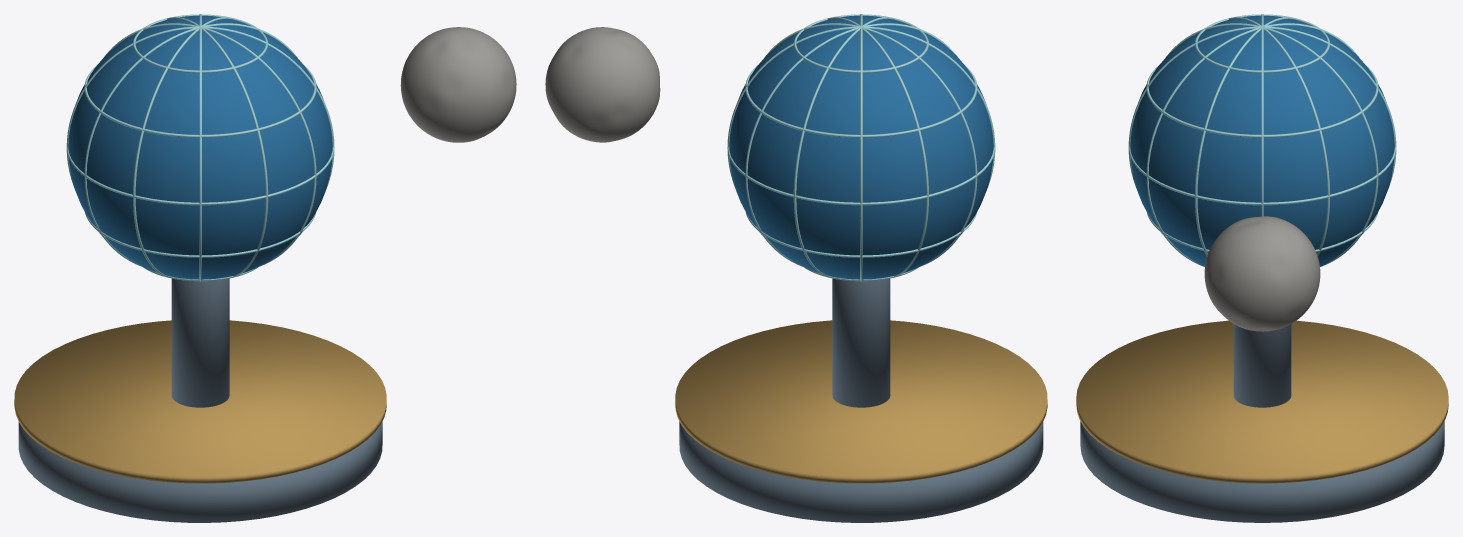
File: earthsky-moon-v1-ultra.glb
3 renders of one model, left to right at view 1: azimuth 30°, elevation 25°; view 2: azimuth 150°, elevation 25°; view 3: azimuth 270°, elevation 25°, orthographic.
Visible parts, largest first — view 1: earth-ocean, brass-trim, weighted-base, moon, pedestal, longitude.005, latitude.003, longitude, longitude.004, latitude.002, longitude.001, longitude.003 (+3 smaller); view 2: earth-ocean, brass-trim, weighted-base, moon, pedestal, longitude.001, latitude.003, longitude, longitude.002, latitude.002, longitude.005, longitude.003 (+3 smaller); view 3: earth-ocean, brass-trim, weighted-base, moon, pedestal, longitude.003, longitude.002, longitude.004, latitude.003, latitude.002, longitude.001, longitude.005 (+2 smaller).
Part boxes in pixels (<box>): earth-ocean: <box>68,15,332,279</box>; brass-trim: <box>14,320,386,483</box>; weighted-base: <box>18,421,382,522</box>; moon: <box>400,27,516,142</box>; pedestal: <box>171,278,229,407</box>; longitude.005: <box>66,26,334,188</box>; latitude.003: <box>84,65,316,137</box>; longitude: <box>84,23,296,266</box>; longitude.004: <box>105,23,316,266</box>; latitude.002: <box>66,147,334,205</box>; longitude.001: <box>133,17,234,277</box>; longitude.003: <box>167,17,268,277</box>; earth-ocean: <box>729,15,993,279</box>; brass-trim: <box>675,320,1047,483</box>; weighted-base: <box>679,421,1043,522</box>; moon: <box>545,27,660,142</box>; pedestal: <box>832,278,890,407</box>; longitude.001: <box>727,26,995,188</box>; latitude.003: <box>745,65,977,137</box>; longitude: <box>765,23,977,266</box>; longitude.002: <box>745,23,956,266</box>; latitude.002: <box>727,147,995,205</box>; longitude.005: <box>827,17,928,277</box>; longitude.003: <box>793,17,894,277</box>; earth-ocean: <box>1130,15,1394,266</box>; brass-trim: <box>1076,320,1448,483</box>; weighted-base: <box>1080,421,1444,522</box>; moon: <box>1204,216,1320,331</box>; pedestal: <box>1233,324,1291,407</box>; longitude.003: <box>1128,26,1396,188</box>; longitude.002: <box>1165,23,1378,266</box>; longitude.004: <box>1146,23,1359,266</box>; latitude.003: <box>1146,64,1378,137</box>; latitude.002: <box>1128,147,1396,205</box>; longitude.001: <box>1228,17,1330,256</box>; longitude.005: <box>1194,17,1296,256</box>.
Bounding box in the file's own units: 0.655 × 0.5593 × 0.45.
